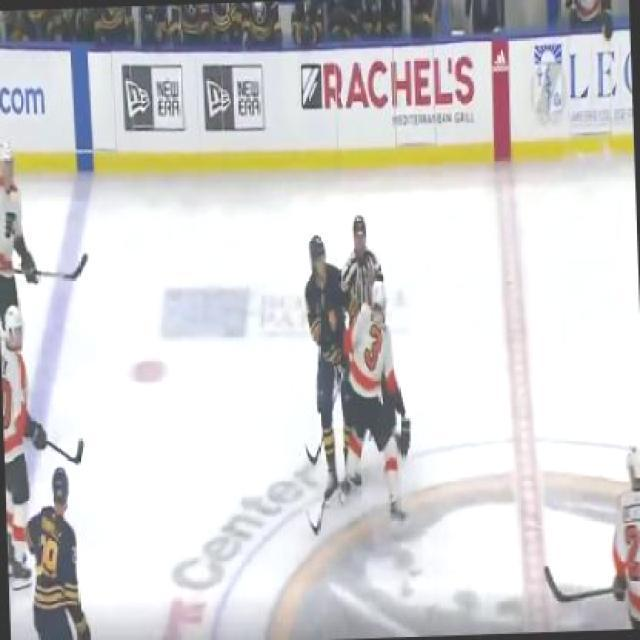fight: (300, 221, 406, 524)
non-fight: (23, 462, 92, 638), (0, 300, 40, 591), (608, 442, 638, 630)
